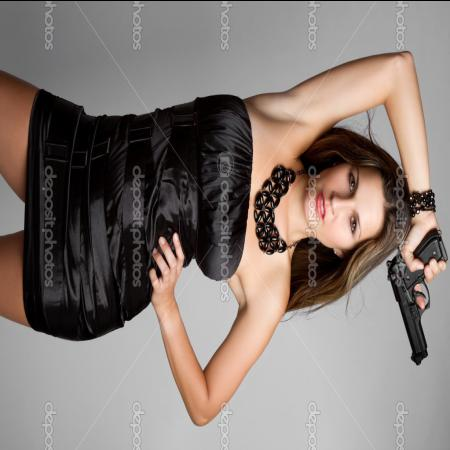Pistol: (384, 223, 448, 370)
